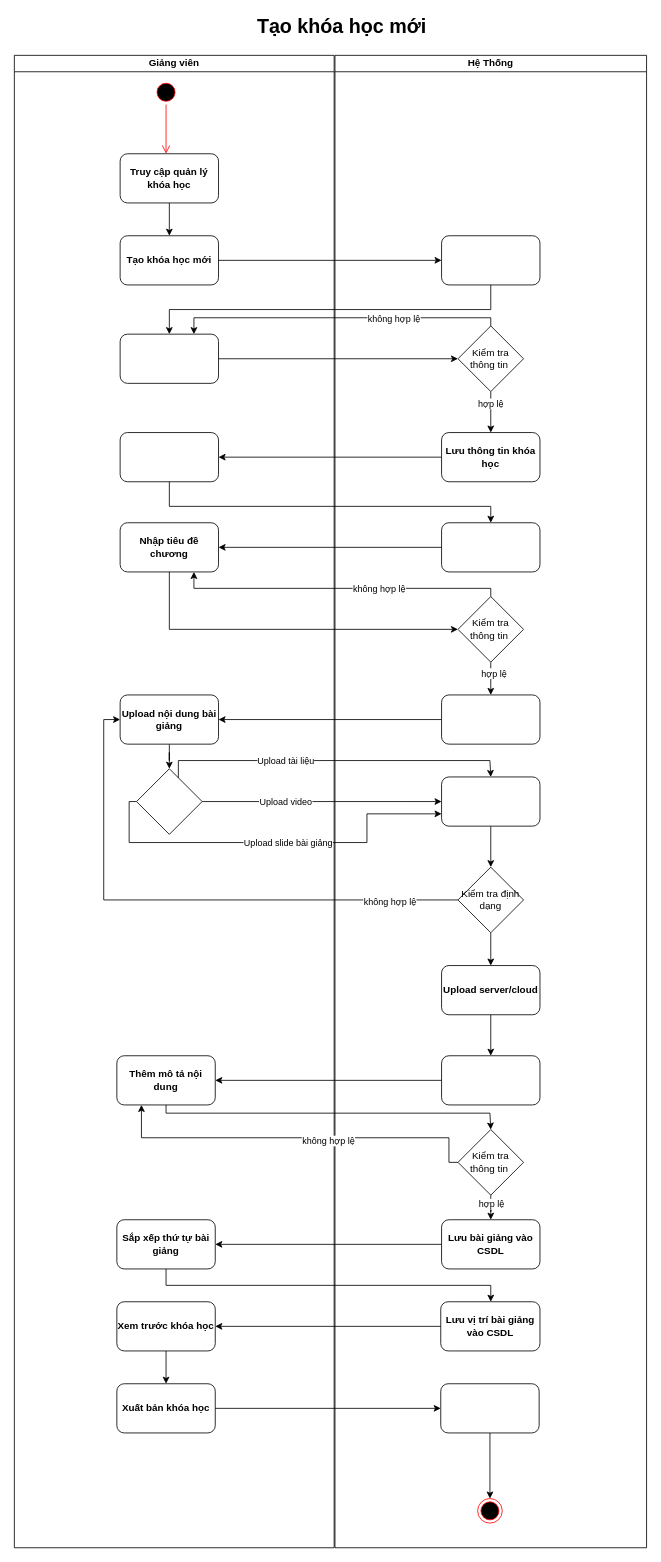
Some shapes in this 661 by 1562 pixel diagram are drawn without their labels. The centre of each missing label's shape, as x and y in pixels:
"Chọn loại nội dung" goes at pixel 169 801.
"Hiển thị form nhập thông tin khóa học" goes at pixel 490 260.
"Hiển thị form tạo bài giảng khóa học" goes at pixel 490 719.
"Hiển thị form tạo chương khóa học" goes at pixel 490 547.
"Kiểm tra định dạng file" goes at pixel 490 801.
"Kích hoạt khóa học" goes at pixel 489 1408.
"Lưu link url vào CSDL" goes at pixel 490 1080.
"Nhập thông tin khóa học" goes at pixel 169 358.
"Tạo chương khóa học mới" goes at pixel 169 457.
